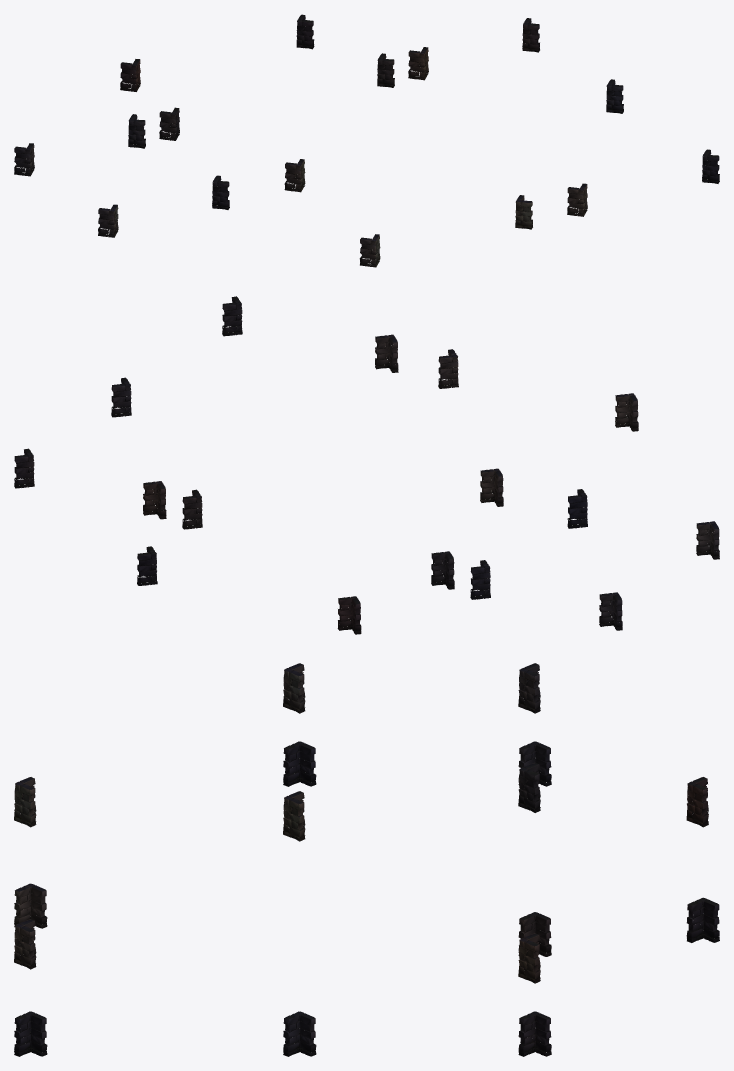
Rendered from dg_quoin_corner.glb.
3 renders of one model, top to bottom at view 1: azimuth 30°, elevation 25°; view 2: azimuth 150°, elevation 25°; view 3: azimuth 270°, elevation 25°, orthographic. The views are drawn at different scales.
Parts seen in each view (by area): view 1: DECO_DGP_QUOIN_CORNER; view 2: DECO_DGP_QUOIN_CORNER; view 3: DECO_DGP_QUOIN_CORNER.
Boxes of the visible parts, bbox=[...] form: DECO_DGP_QUOIN_CORNER: bbox=[14, 14, 719, 267]; DECO_DGP_QUOIN_CORNER: bbox=[14, 296, 719, 634]; DECO_DGP_QUOIN_CORNER: bbox=[14, 663, 719, 1056].
Size of the model in its own units: 50.33 by 2.44 by 41.99.
1 material, 1 textured.
